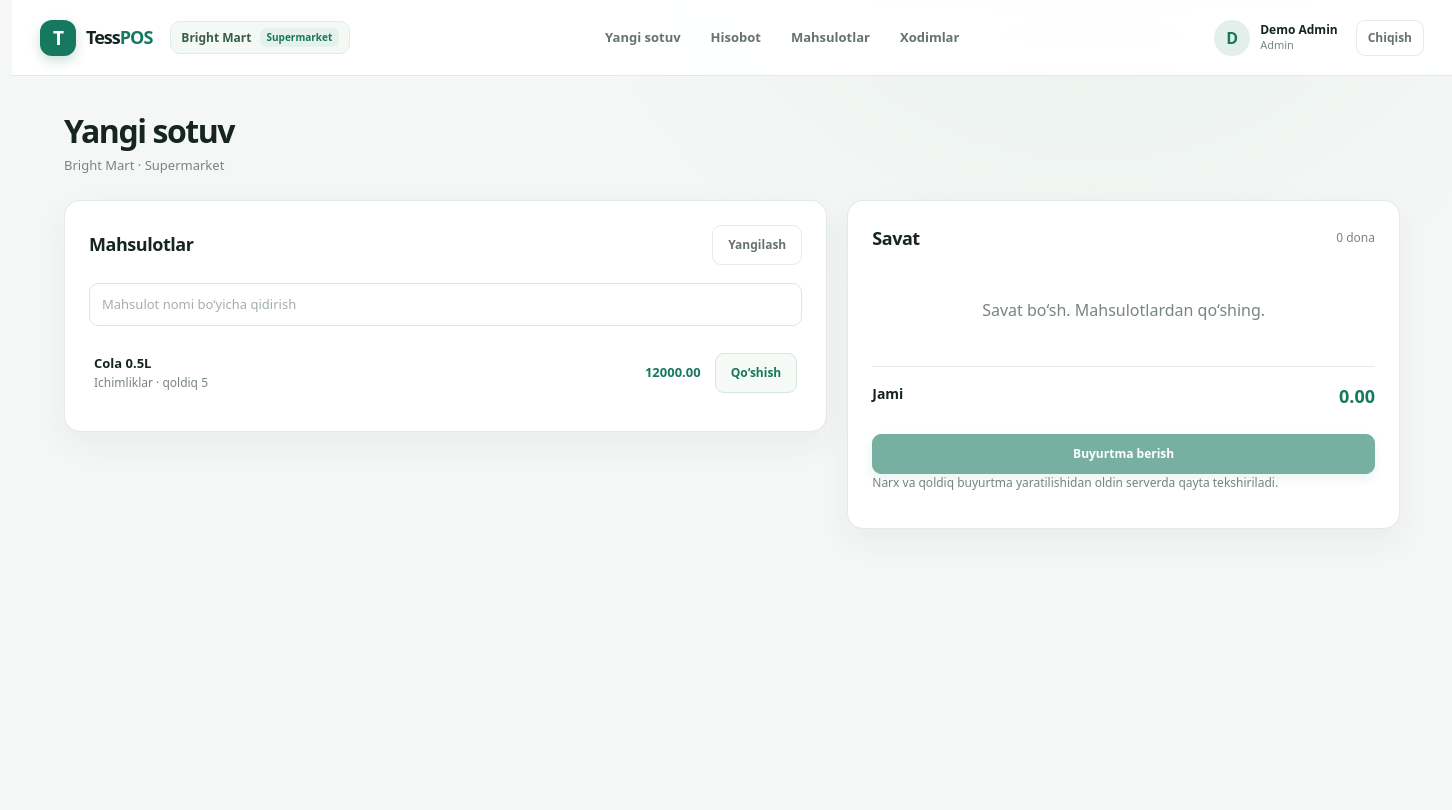
Scenario: application pages › searches products, maintains cart quantities and submits an order
expect the text "Cola 0.5L" is shown: met, box [94, 354, 152, 372]
Click the button "Qo‘shish": (756, 373) [715, 353, 797, 393]
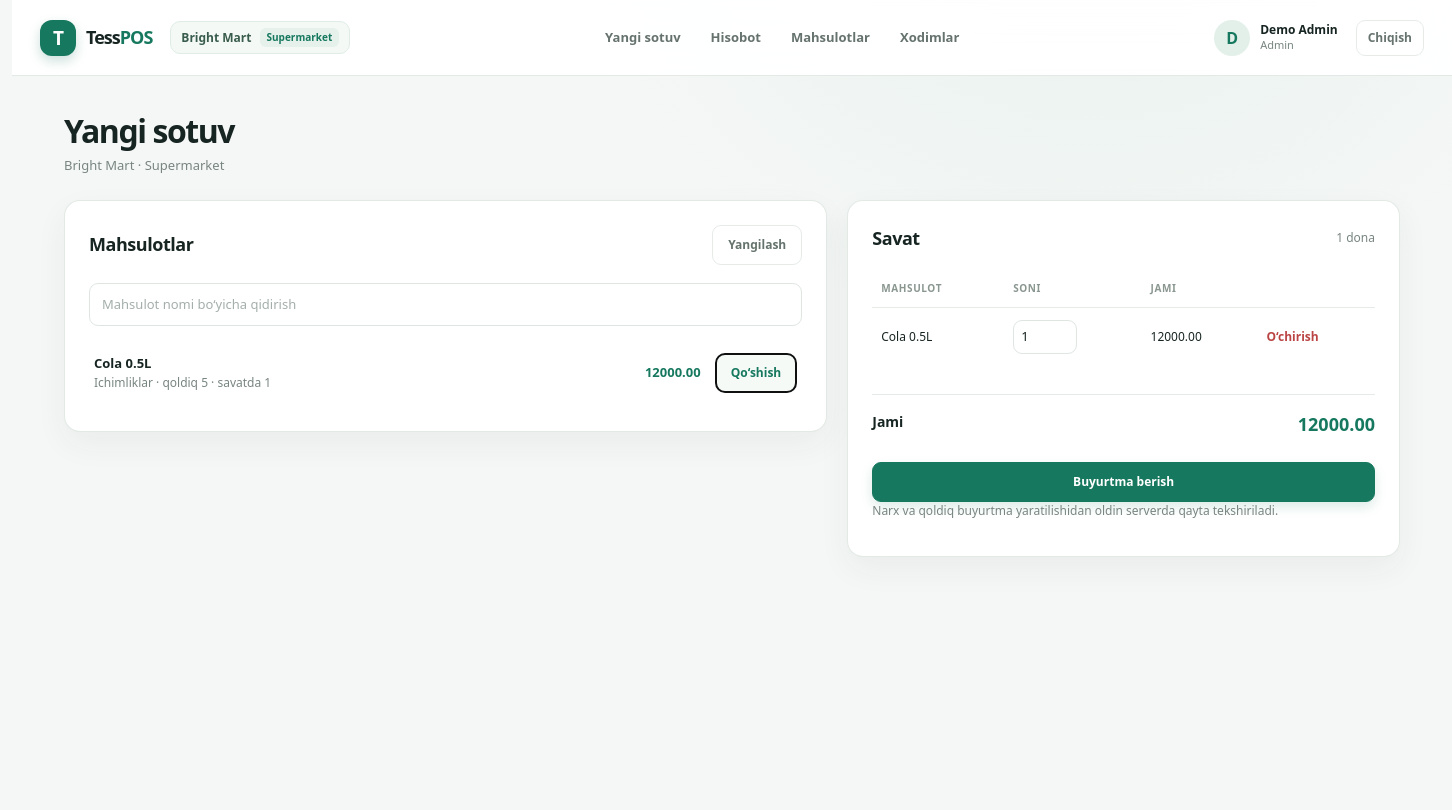
Replace the text in the number field with "2": (1045, 337) [1013, 320, 1077, 354]
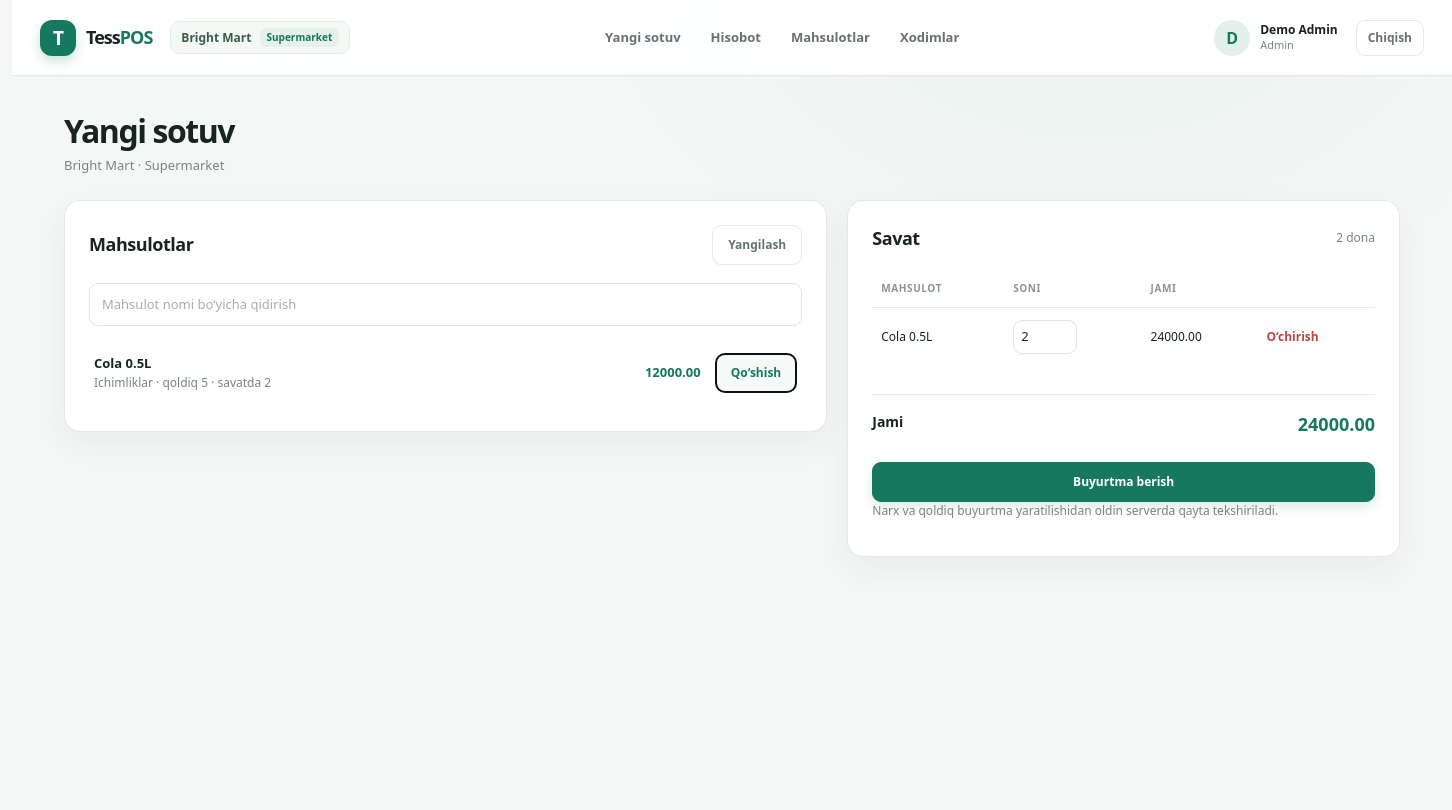
Click the button "Buyurtma berish": (1124, 482) [872, 462, 1375, 502]
(page scrolled)
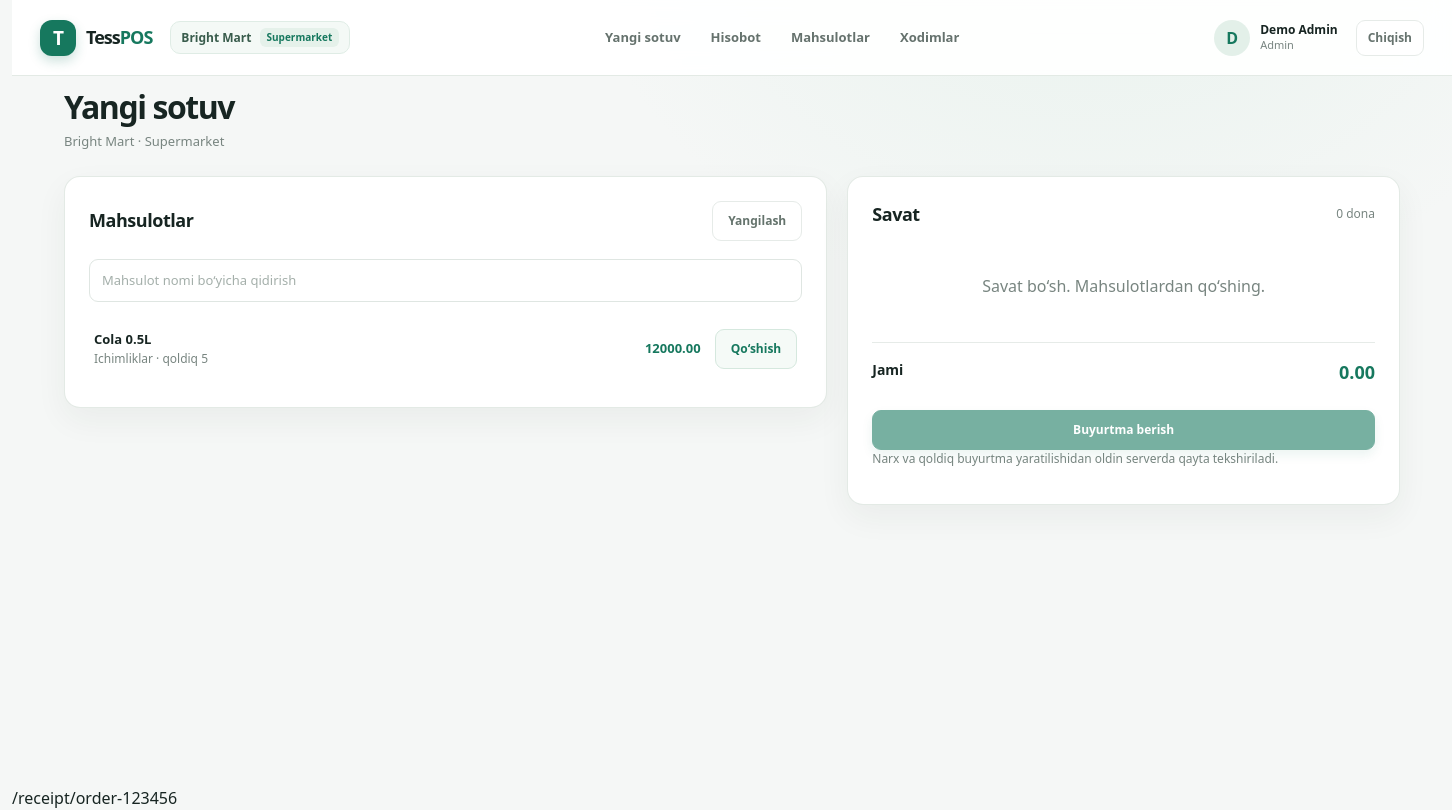
expect the text with test id "location" reads "/receipt/order-123456": met, box [12, 787, 177, 809]
